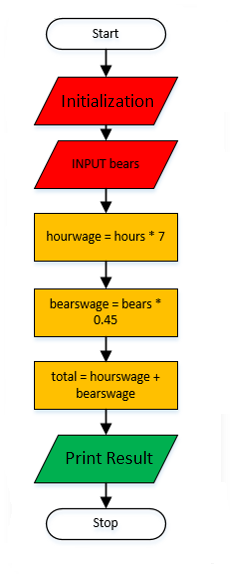arrow: (99, 50, 113, 78), (99, 334, 112, 361), (99, 409, 113, 433), (99, 485, 112, 507), (100, 188, 111, 212), (100, 263, 111, 286), (98, 124, 112, 139)
data: (33, 137, 179, 192), (34, 74, 179, 128), (33, 432, 179, 485)
process: (31, 358, 181, 413), (32, 287, 182, 341), (32, 211, 181, 264)
terminator: (44, 16, 168, 52), (44, 506, 168, 542)
text: (48, 369, 162, 403), (47, 296, 163, 327), (44, 227, 165, 244), (57, 91, 154, 112), (62, 447, 156, 467), (67, 155, 143, 171), (90, 516, 122, 531), (90, 27, 121, 40)
